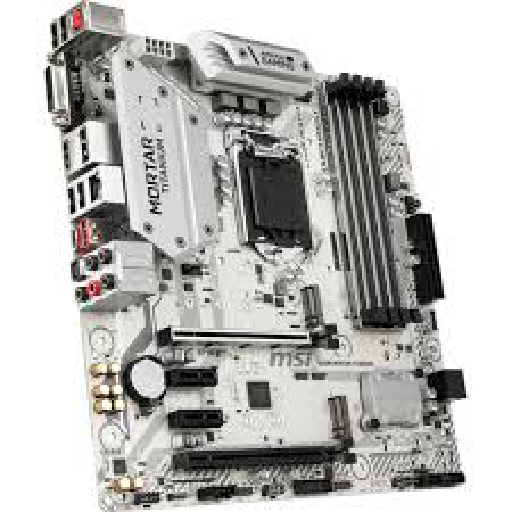CPU: (226, 126, 323, 266)
GPU: (161, 323, 341, 356), (176, 439, 357, 470)
MOTHERBOARD: (49, 3, 470, 510)
RAM: (312, 70, 424, 331)
SSD: (300, 282, 325, 333), (330, 392, 351, 440)
